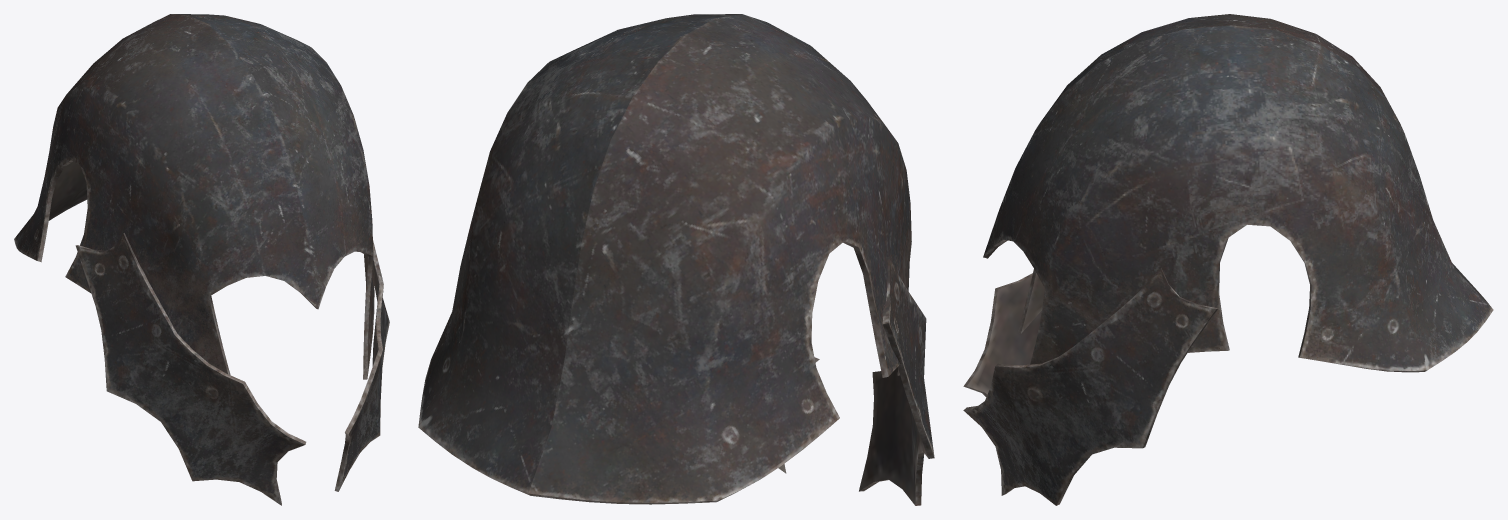
File: sk_dg_uruk_helmet_med_b.fbx
3 renders of one model, left to right at view 1: azimuth 30°, elevation 25°; view 2: azimuth 150°, elevation 25°; view 3: azimuth 270°, elevation 25°, orthographic. The views are drawn at different scales.
Parts seen in each view (by area): view 1: sk_dg_uruk_helmet_med_b; view 2: sk_dg_uruk_helmet_med_b; view 3: sk_dg_uruk_helmet_med_b.
Boxes of the visible parts, x1,y1,x2,y2 form: sk_dg_uruk_helmet_med_b: (14, 14, 389, 505); sk_dg_uruk_helmet_med_b: (418, 14, 934, 505); sk_dg_uruk_helmet_med_b: (963, 14, 1493, 505).
Bounding box in the file's own units: 0.2303 × 0.3192 × 0.3021.
Materials: 1 (1 with a texture image).
